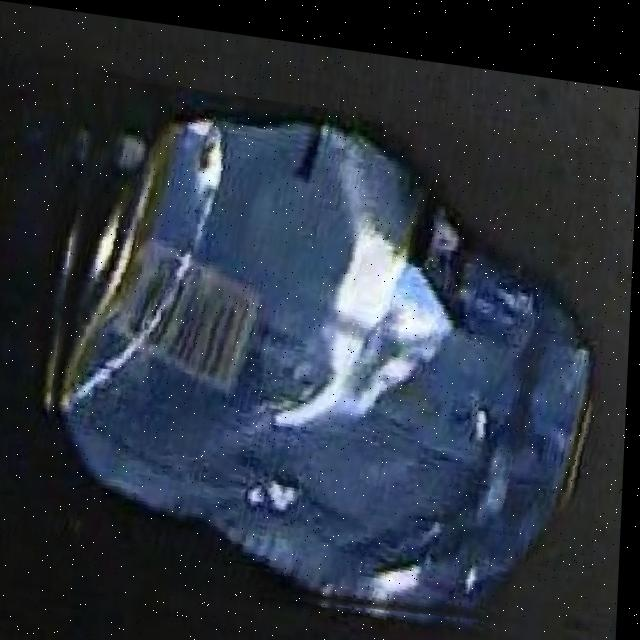litter: (32, 67, 612, 633)
